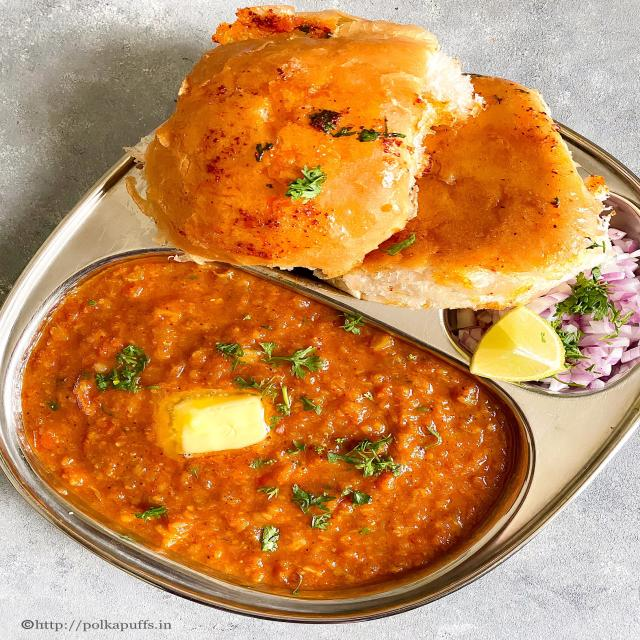pav_bhaji: (21, 25, 640, 612)
